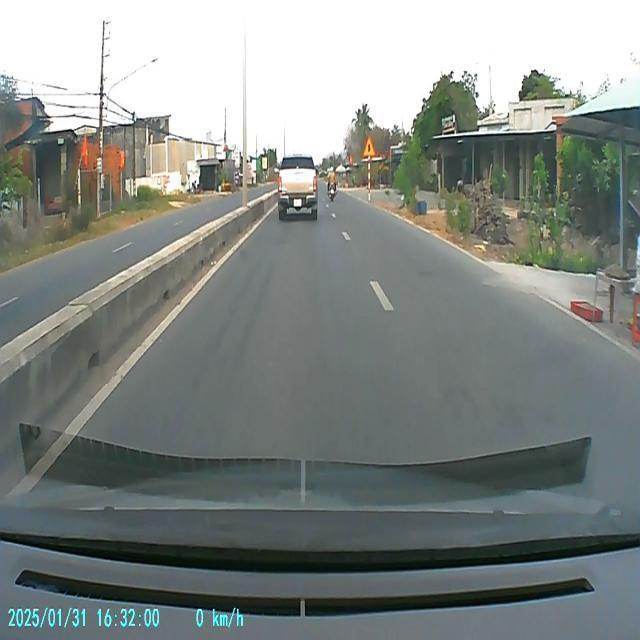207-giao-nhau-voi-duong-khong-uu-tien: (362, 135, 376, 158)
